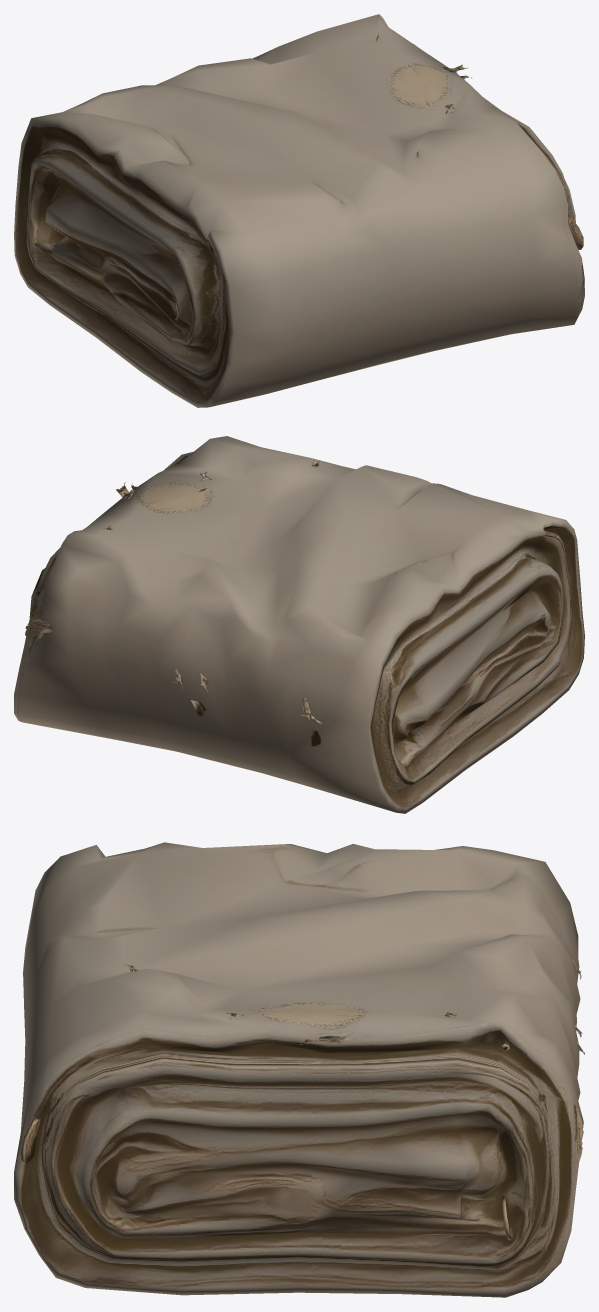
Rendered from item_hq_cloth.glb.
The picture shows the model from 3 angles, top to bottom: view 1: azimuth 30°, elevation 25°; view 2: azimuth 150°, elevation 25°; view 3: azimuth 270°, elevation 25°; orthographic projection. The views are drawn at different scales.
Visible parts, largest first — view 1: tripo_node_94d8d247-c117-431d-b18d-b38d062e3ff8; view 2: tripo_node_94d8d247-c117-431d-b18d-b38d062e3ff8; view 3: tripo_node_94d8d247-c117-431d-b18d-b38d062e3ff8.
Part boxes in pixels (x1,y1,x2,y2): tripo_node_94d8d247-c117-431d-b18d-b38d062e3ff8: (14, 14, 584, 407); tripo_node_94d8d247-c117-431d-b18d-b38d062e3ff8: (14, 436, 584, 813); tripo_node_94d8d247-c117-431d-b18d-b38d062e3ff8: (14, 842, 584, 1297).
Size of the model in its own units: 0.998 by 0.4824 by 0.9863.
1 material, 1 textured.
